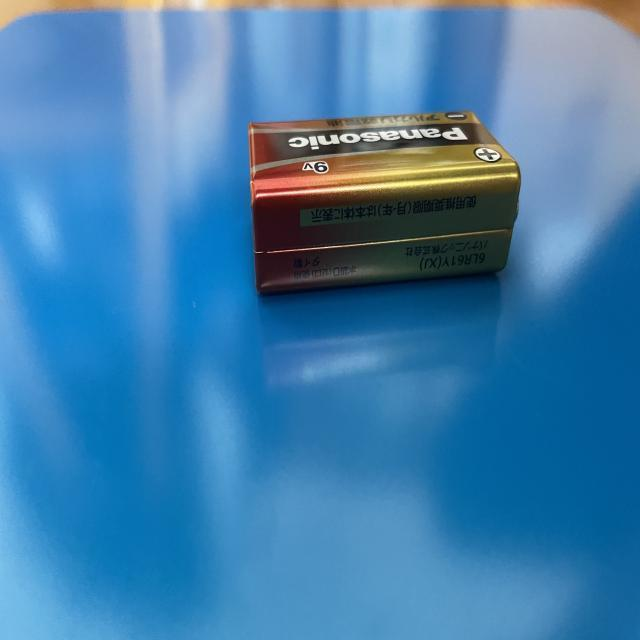9V: (247, 107, 522, 300)
